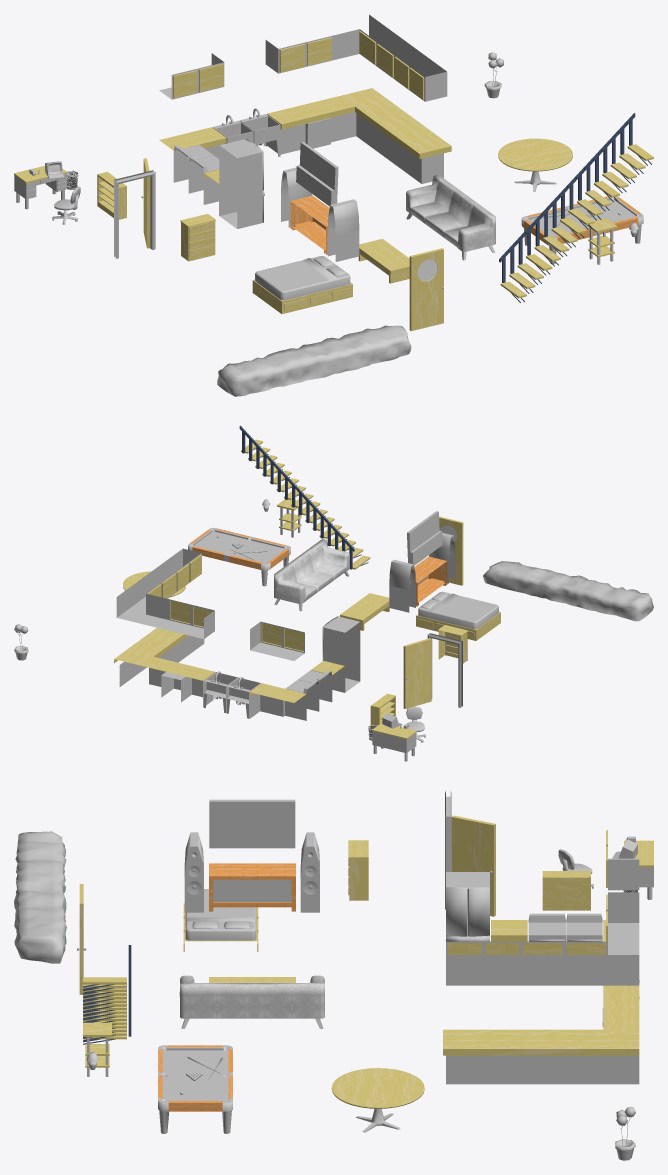
Rendered from WorldObjects.House.fbx.
3 renders of one model, top to bottom at view 1: azimuth 30°, elevation 25°; view 2: azimuth 150°, elevation 25°; view 3: azimuth 270°, elevation 25°, orthographic. The views are drawn at different scales.
Parts seen in each view (by area): view 1: Kitchen Counter, Kitchen Cupboards, Shrub, StairCase, TV, Couch, Bed, FrontDoor, Pool Table, Table, Dresser, Coffee Table (+5 smaller); view 2: Kitchen Counter, Kitchen Cupboards, Shrub, TV, StairCase, Couch, Pool Table, Bed, Door.001, Desk, Coffee Table, FrontDoor (+4 smaller); view 3: Kitchen Counter, Kitchen Cupboards, TV, Shrub, Couch, Pool Table, Table, StairCase, Bed, Door.001, Shelf, Dresser (+5 smaller).
Boxes of the visible parts, x1,y1,x2,y2 form: Kitchen Counter: [159, 88, 451, 228]; Kitchen Cupboards: [159, 14, 447, 101]; Shrub: [217, 325, 411, 396]; StairCase: [499, 113, 653, 302]; TV: [281, 142, 359, 261]; Couch: [406, 175, 495, 260]; Bed: [252, 256, 352, 313]; FrontDoor: [409, 248, 443, 331]; Pool Table: [521, 196, 643, 264]; Table: [498, 138, 572, 191]; Dresser: [180, 214, 215, 261]; Coffee Table: [358, 239, 409, 283]; Kitchen Counter: [114, 616, 360, 720]; Kitchen Cupboards: [116, 548, 304, 660]; Shrub: [483, 561, 653, 621]; TV: [389, 511, 455, 612]; StairCase: [239, 425, 370, 569]; Couch: [274, 539, 349, 611]; Pool Table: [188, 527, 290, 586]; Bed: [416, 591, 500, 640]; Door.001: [403, 638, 431, 709]; Desk: [372, 722, 416, 761]; Coffee Table: [340, 593, 389, 630]; FrontDoor: [439, 516, 463, 585]; Kitchen Counter: [443, 872, 639, 1084]; Kitchen Cupboards: [446, 830, 639, 985]; TV: [184, 799, 319, 912]; Shrub: [14, 831, 66, 963]; Couch: [179, 975, 324, 1028]; Pool Table: [158, 1045, 232, 1133]; Table: [331, 1068, 424, 1132]; StairCase: [83, 945, 131, 1044]; Bed: [183, 889, 258, 951]; Door.001: [451, 815, 495, 916]; Shelf: [542, 871, 590, 910]; Dresser: [348, 840, 368, 900].
Bounding box in the file's own units: 1519 × 405 × 1323.
